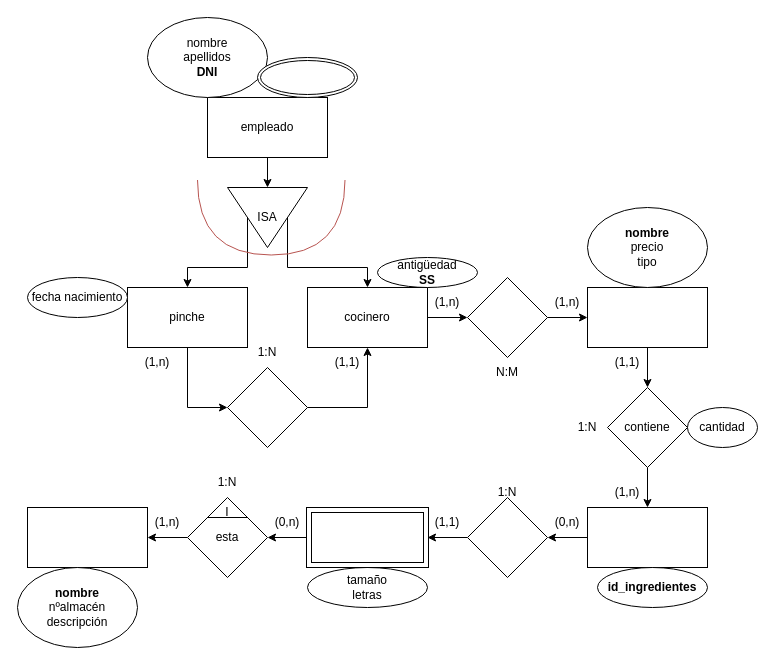
Image size: 775x665. Some labels were removed from this diagram. Here are the shapes that lost their labels. From the top down, the box of each, then its label:
(256, 56, 358, 98): telefono
(466, 276, 548, 358): prepara
(586, 286, 708, 348): plato
(226, 366, 308, 448): está a cargo
(26, 506, 148, 568): almacén
(306, 506, 428, 568): estantería
(466, 496, 548, 578): se almacena
(586, 506, 708, 568): ingrediente
